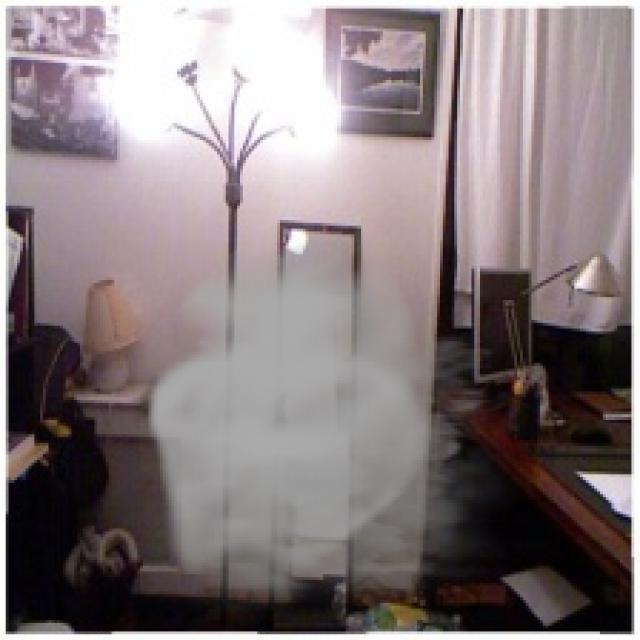Smoke: (139, 240, 532, 626)
